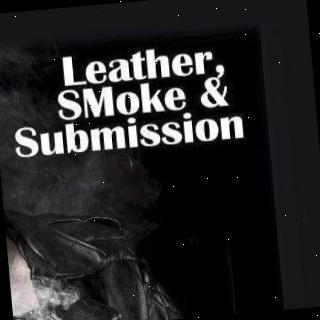smoke: (0, 46, 11, 231)
